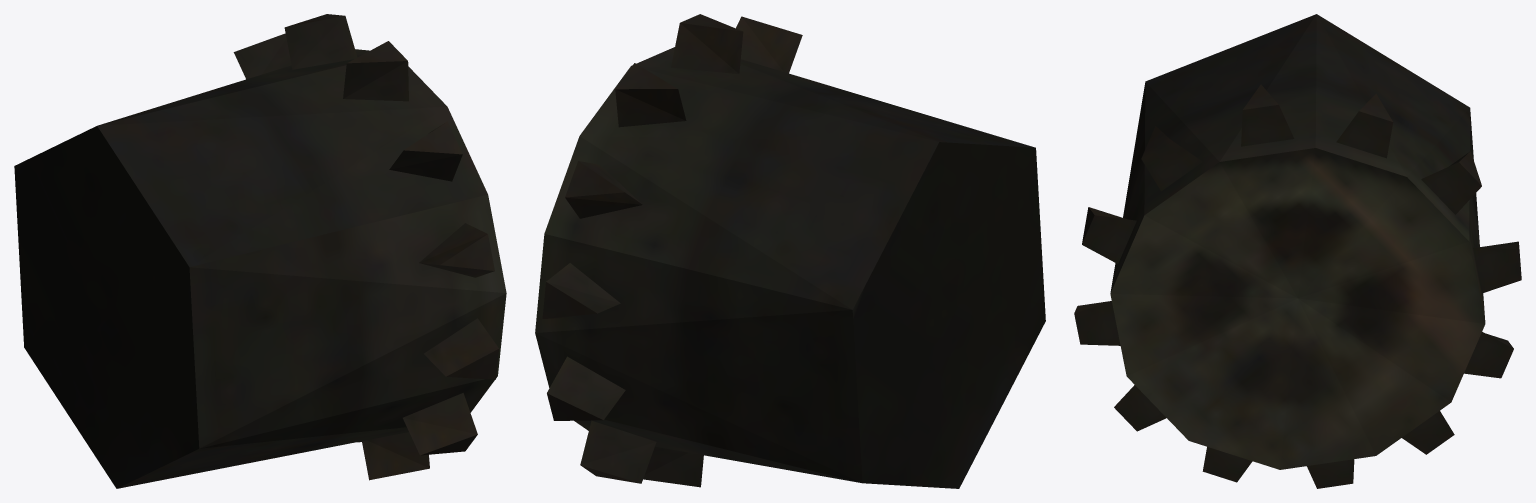
Rendered from BackWheel.fbx.
3 views of the same model, side by side, from view 1: azimuth 30°, elevation 25°; view 2: azimuth 150°, elevation 25°; view 3: azimuth 270°, elevation 25° (orthographic). The views are drawn at different scales.
Parts seen in each view (by area): view 1: BackWheel; view 2: BackWheel; view 3: BackWheel.
Part boxes in pixels (x1,y1,x2,y2): BackWheel: (14,14,506,488); BackWheel: (535,14,1045,488); BackWheel: (1074,14,1521,488).
Bounding box in the file's own units: 0.4796 × 0.6378 × 0.6738.
